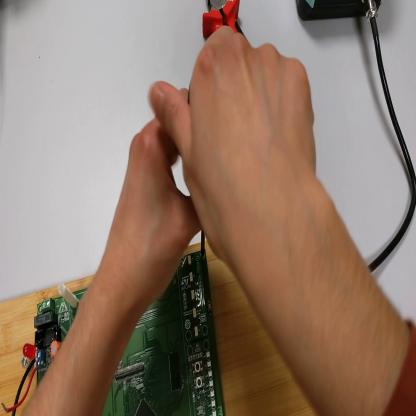hand: (158, 26, 322, 271), (108, 94, 202, 307)
low voltage board: (2, 252, 226, 416)
pliers: (202, 1, 246, 39)
screwdriver-: (199, 229, 205, 254)
welder station: (297, 1, 385, 23)
working area: (3, 243, 315, 413)
